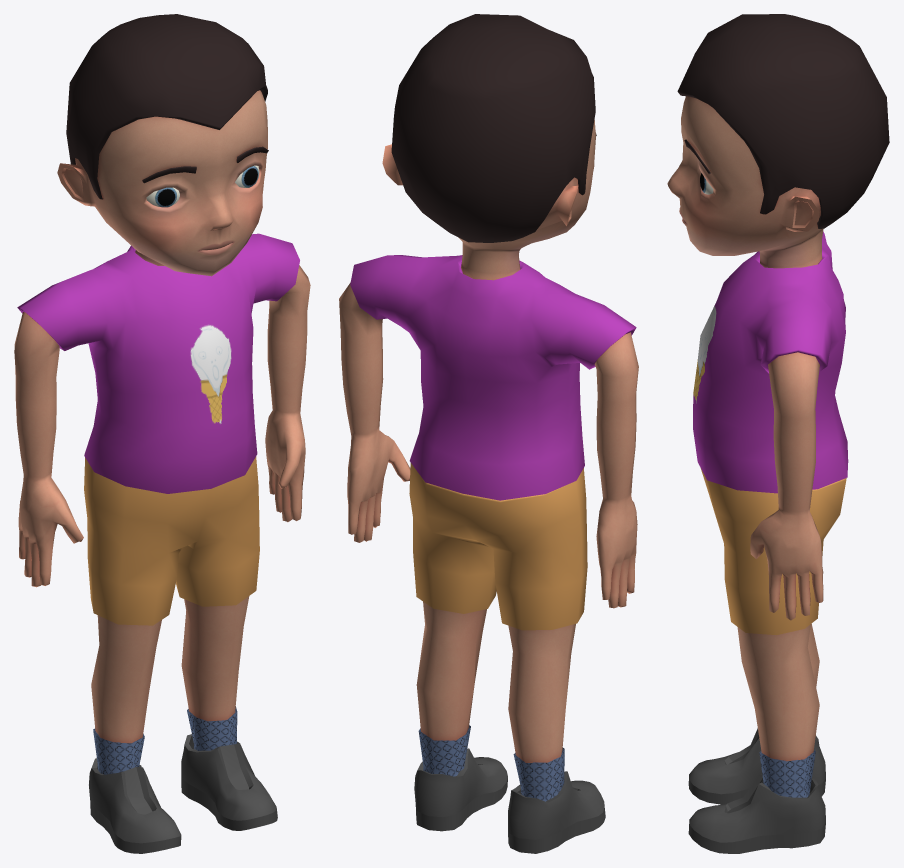
File: kind_paars.glb
3 views of the same model, side by side, from view 1: azimuth 30°, elevation 25°; view 2: azimuth 150°, elevation 25°; view 3: azimuth 270°, elevation 25° (orthographic).
Visible parts, largest first — view 1: uploads_files_3390543_boy; view 2: uploads_files_3390543_boy; view 3: uploads_files_3390543_boy.
Boxes of the visible parts, bbox=[...] form: uploads_files_3390543_boy: bbox=[14, 14, 310, 853]; uploads_files_3390543_boy: bbox=[339, 14, 638, 853]; uploads_files_3390543_boy: bbox=[667, 14, 889, 853].
Bounding box in the file's own units: 49.14 × 126 × 32.04.
1 material, 1 textured.
